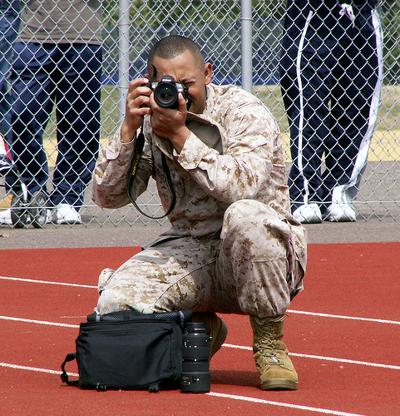person: (92, 34, 308, 388)
